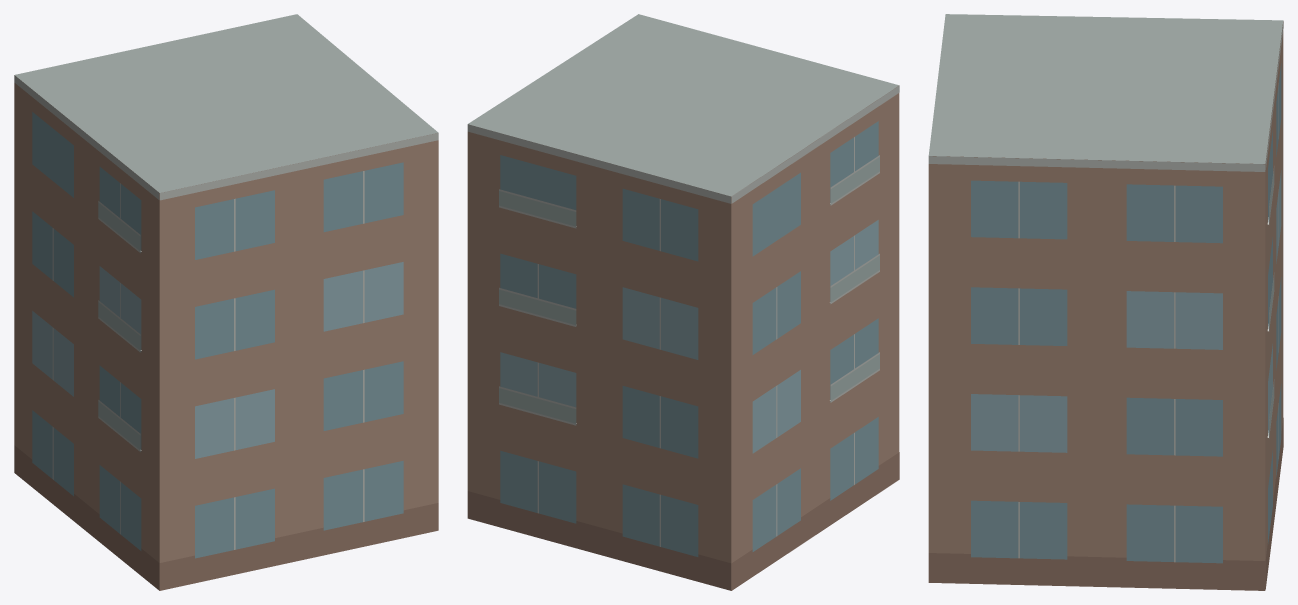
The model's file is survey-upis-32929882.glb.
3 renders of one model, left to right at view 1: azimuth 30°, elevation 25°; view 2: azimuth 150°, elevation 25°; view 3: azimuth 270°, elevation 25°, orthographic. The views are drawn at different scales.
Parts seen in each view (by area): view 1: survey-upis-32929882.tmp; view 2: survey-upis-32929882.tmp; view 3: survey-upis-32929882.tmp.
Part boxes in pixels (box(x1,y1,x2,y2)): survey-upis-32929882.tmp: box(14, 14, 438, 590); survey-upis-32929882.tmp: box(467, 14, 899, 590); survey-upis-32929882.tmp: box(928, 14, 1283, 590).
Bounding box in the file's own units: 9.81 × 13 × 9.8.
